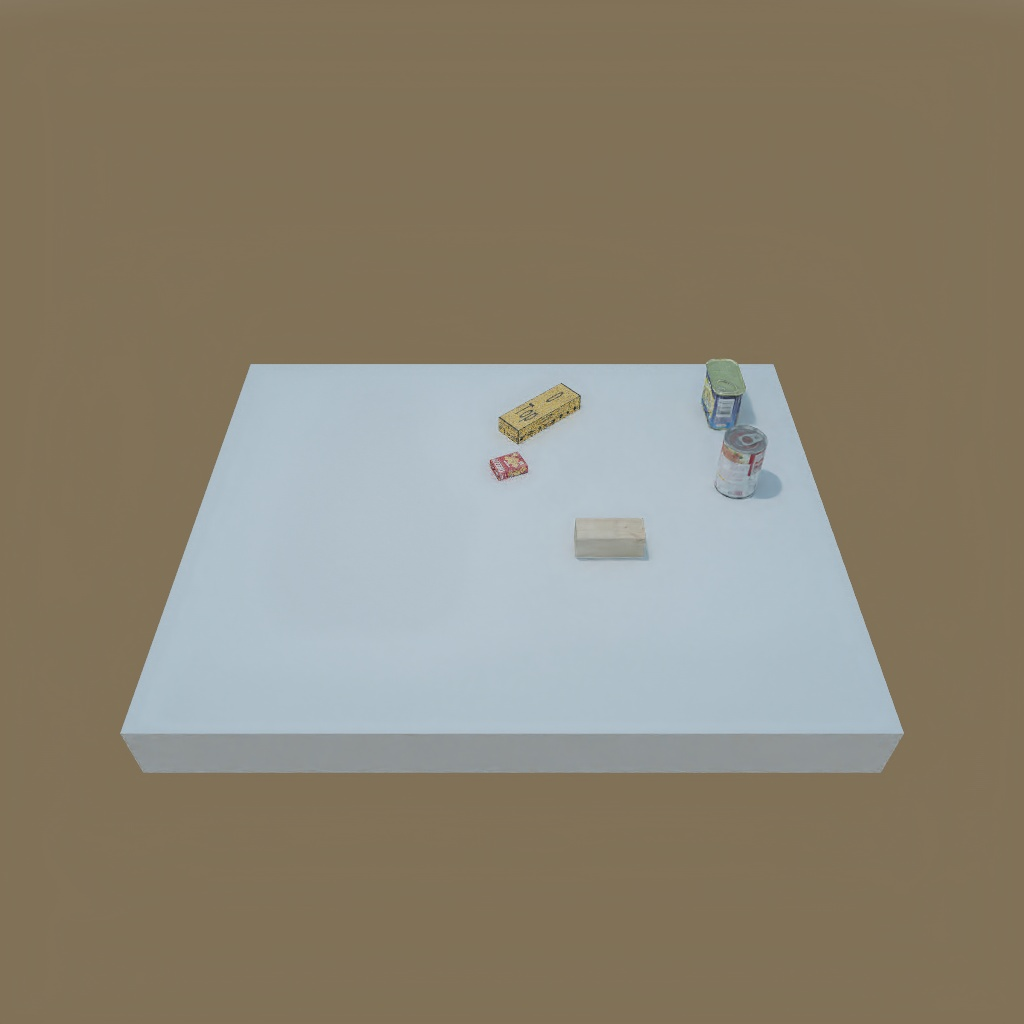jenga: (498, 380, 582, 441)
potted_meat_can: (699, 358, 744, 432)
tomato_soup_can: (716, 423, 768, 503)
wood_block: (566, 510, 651, 561)
